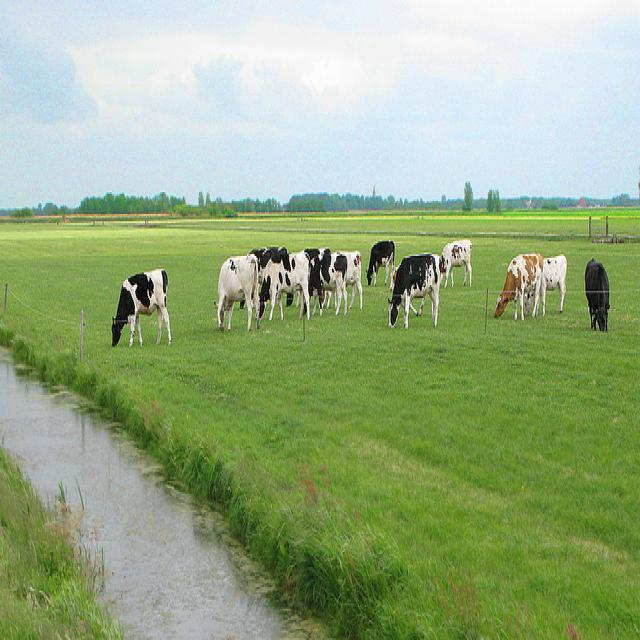cow: (248, 229, 398, 293), (109, 265, 171, 355), (386, 251, 441, 328), (258, 249, 309, 318), (492, 251, 542, 318), (213, 254, 257, 327), (523, 251, 566, 315), (306, 251, 346, 315), (295, 244, 335, 306), (582, 254, 609, 329), (364, 236, 394, 285), (440, 238, 470, 285), (340, 247, 361, 307), (115, 284, 131, 328)
